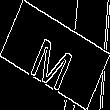M_NE: (29, 22, 81, 88)
